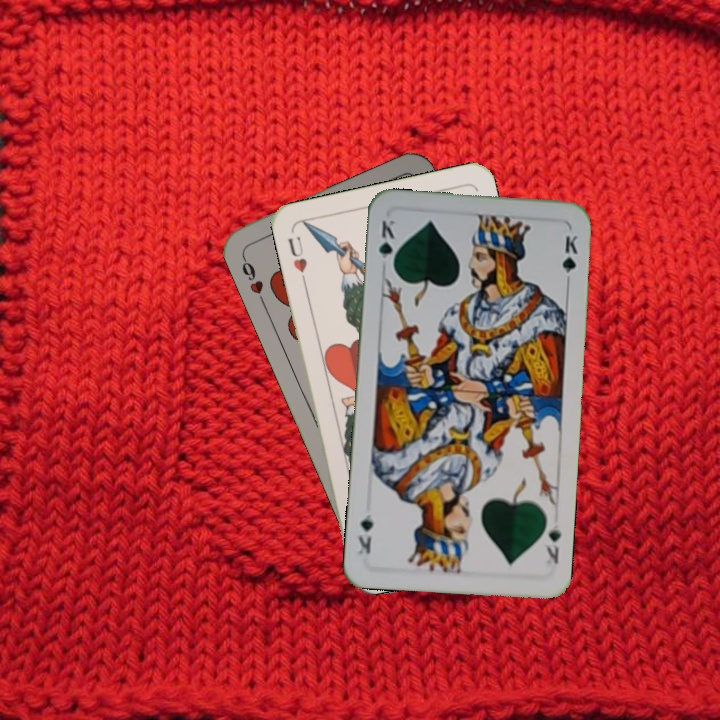GK: (374, 213, 398, 273), (541, 521, 564, 573)
H9: (237, 251, 268, 307)
HU: (283, 233, 310, 286)
